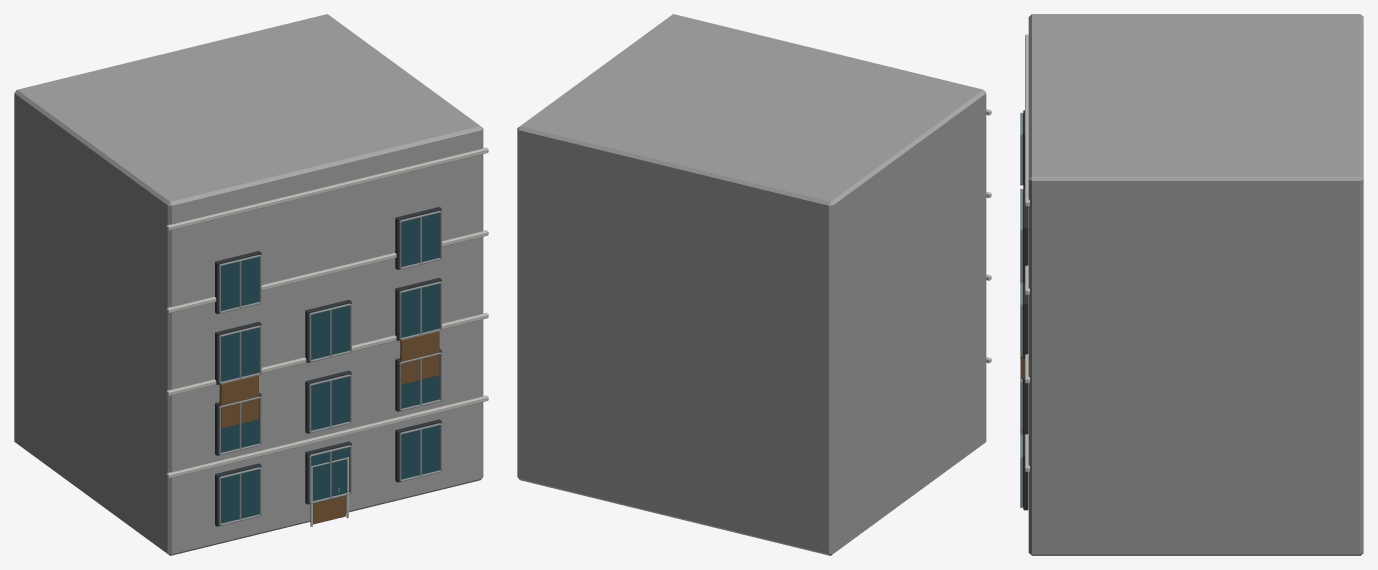
The model's file is Abandoned.glb.
3 renders of one model, left to right at view 1: azimuth 30°, elevation 25°; view 2: azimuth 150°, elevation 25°; view 3: azimuth 270°, elevation 25°, orthographic. The views are drawn at different scales.
Parts seen in each view (by area): view 1: Concrete_Weathered, Glass, Metal, Concrete_Light, Metal_Dark, Wood; view 2: Concrete_Weathered; view 3: Concrete_Weathered, Metal_Dark, Concrete_Light, Metal, Glass.
Part boxes in pixels (x1,y1,x2,y2): Concrete_Weathered: (14, 14, 483, 555); Glass: (219, 213, 439, 523); Metal: (218, 210, 441, 525); Concrete_Light: (166, 147, 488, 478); Metal_Dark: (215, 207, 441, 526); Wood: (219, 331, 439, 524); Concrete_Weathered: (517, 14, 986, 555); Concrete_Weathered: (1028, 14, 1363, 555); Metal_Dark: (1023, 110, 1028, 510); Concrete_Light: (1025, 34, 1029, 471); Metal: (1020, 112, 1022, 507); Glass: (1022, 113, 1023, 506).
Bounding box in the file's own units: 14.2 × 15.05 × 12.31.
